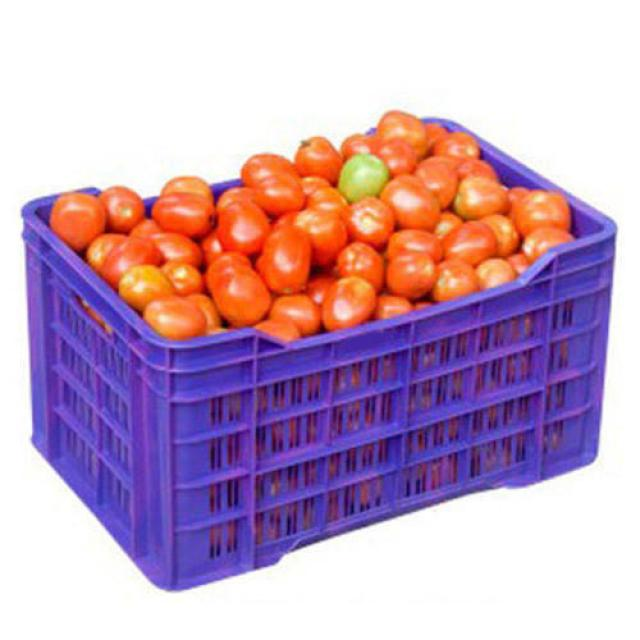basket: (22, 196, 616, 591)
